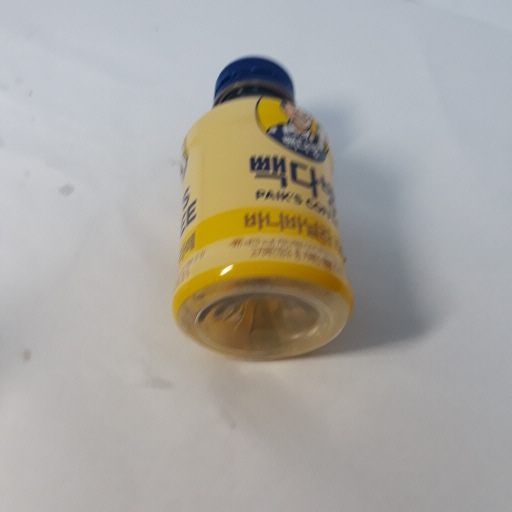Plastic_0: (173, 55, 355, 362)
